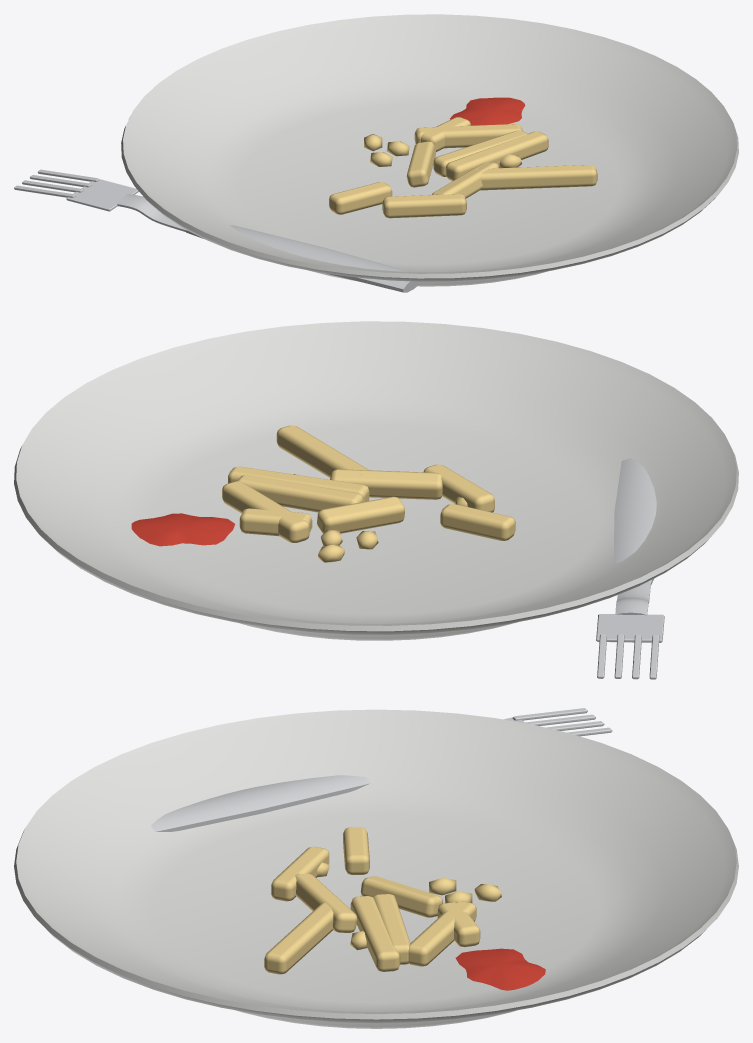
Rendered from kitchen_plate_leftovers_b.fbx.
3 views of the same model, one above another, from view 1: azimuth 30°, elevation 25°; view 2: azimuth 150°, elevation 25°; view 3: azimuth 270°, elevation 25° (orthographic). The views are drawn at different scales.
Parts seen in each view (by area): view 1: kitchen_plate_leftovers_b; view 2: kitchen_plate_leftovers_b; view 3: kitchen_plate_leftovers_b.
Boxes of the visible parts, left/top/right/bottom form: kitchen_plate_leftovers_b: left=14, top=14, right=738, bottom=292; kitchen_plate_leftovers_b: left=14, top=321, right=738, bottom=679; kitchen_plate_leftovers_b: left=14, top=708, right=738, bottom=1028.
Size of the model in its own units: 0.2907 by 0.025 by 0.2616.
